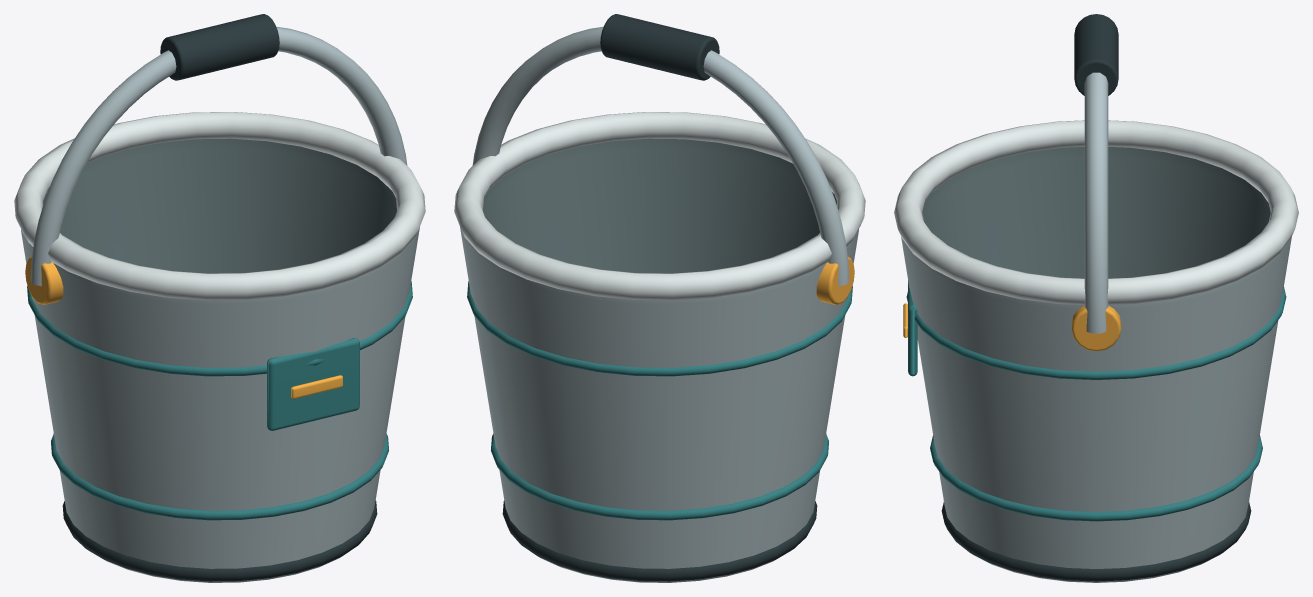
File: bucket.fbx
3 renders of one model, left to right at view 1: azimuth 30°, elevation 25°; view 2: azimuth 150°, elevation 25°; view 3: azimuth 270°, elevation 25°, orthographic.
Parts seen in each view (by area): view 1: Vesper_Bucket; view 2: Vesper_Bucket; view 3: Vesper_Bucket.
Boxes of the visible parts, x1,y1,x2,y2 form: Vesper_Bucket: [14, 14, 425, 582]; Vesper_Bucket: [454, 14, 865, 582]; Vesper_Bucket: [894, 14, 1298, 582].
Size of the model in its own units: 196 by 247 by 187.
